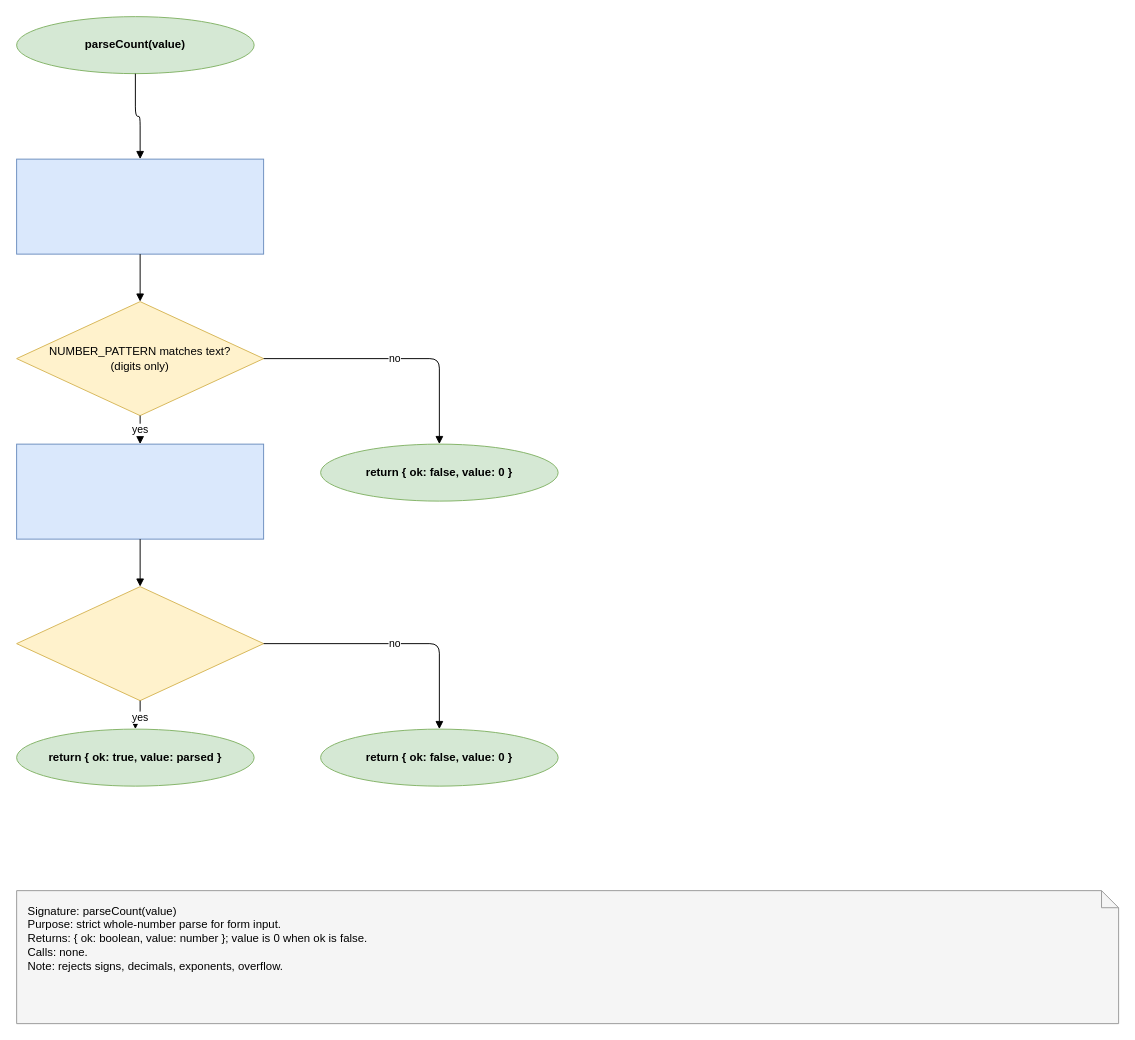
Some shapes in this 1135 by 1040 pixel diagram are drawn without their labels. Each missing label, with the centre of its shape:
Number.isSafeInteger(parsed) and parsed <= MAX_VALUE?: the point at 140,643
parsed = Number(text): the point at 140,491
text = String(value).trim(): the point at 140,206
